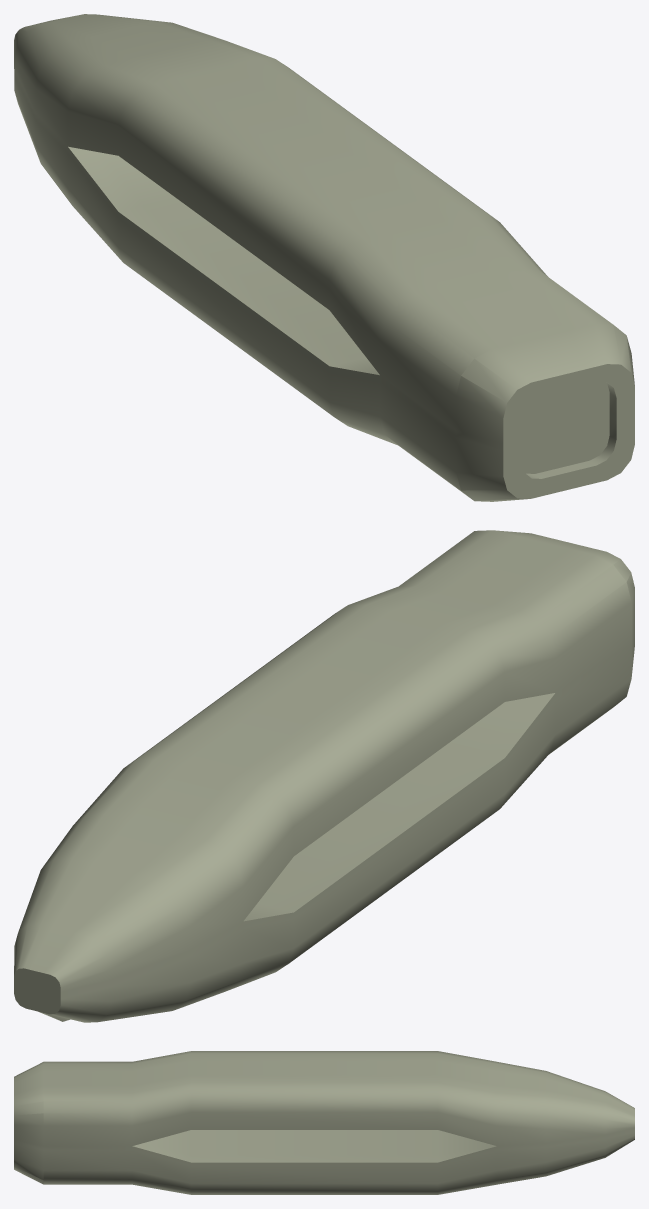
The model's file is kelvane_frigate.glb.
The picture shows the model from 3 angles, top to bottom: view 1: azimuth 30°, elevation 25°; view 2: azimuth 150°, elevation 25°; view 3: azimuth 270°, elevation 25°; orthographic projection. The views are drawn at different scales.
Visible parts, largest first — view 1: hull_hull; view 2: hull_hull; view 3: hull_hull.
Boxes of the visible parts, x1,y1,x2,y2 form: hull_hull: [14, 14, 634, 501]; hull_hull: [14, 530, 634, 1022]; hull_hull: [14, 1051, 634, 1194].
Bounding box in the file's own units: 24 × 25.04 × 126.
